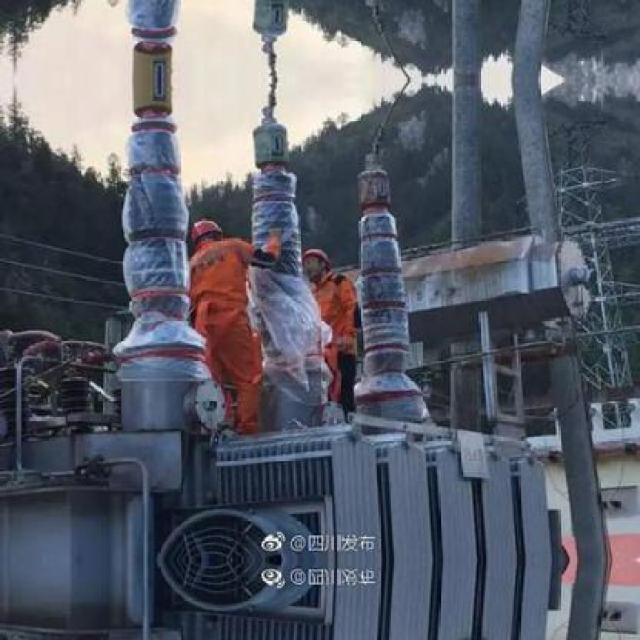helmet: (184, 215, 222, 242), (300, 244, 335, 262)
